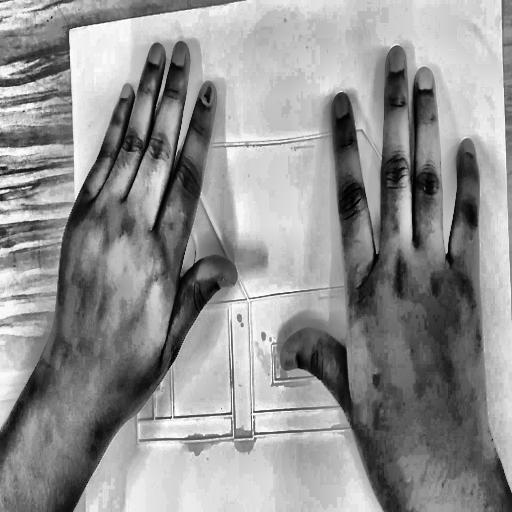house: (107, 46, 478, 462)
top_left: (65, 22, 75, 40)
